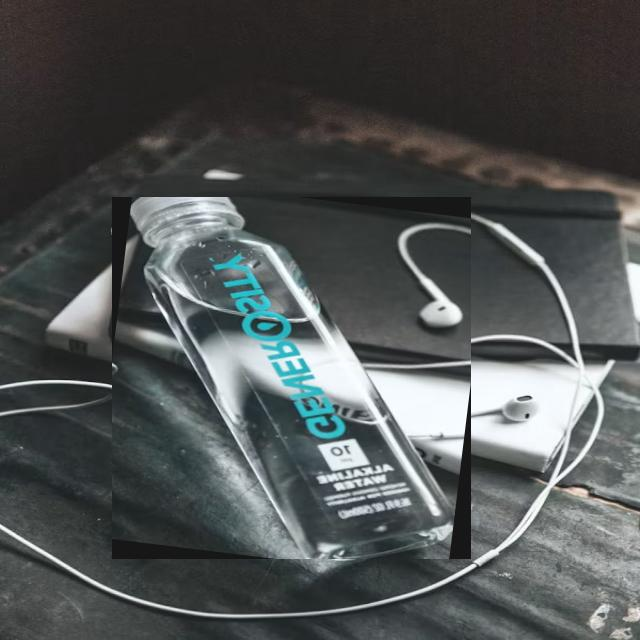Bottle: (112, 198, 470, 559)
